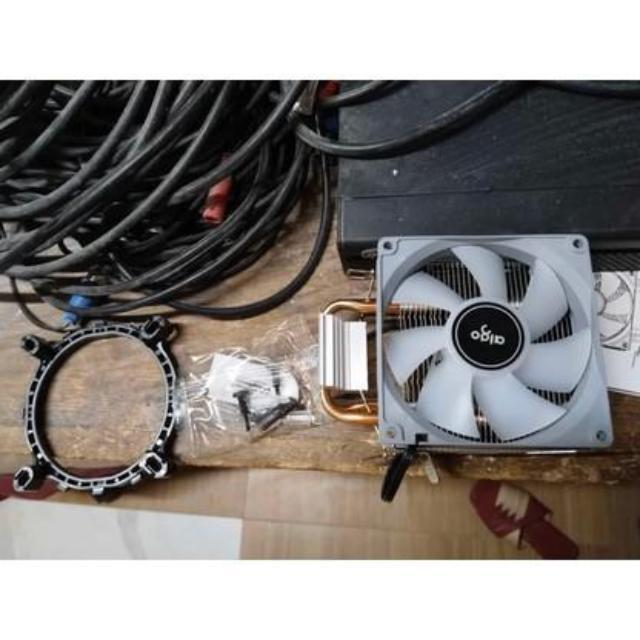CPU_Fan: (322, 230, 616, 461)
